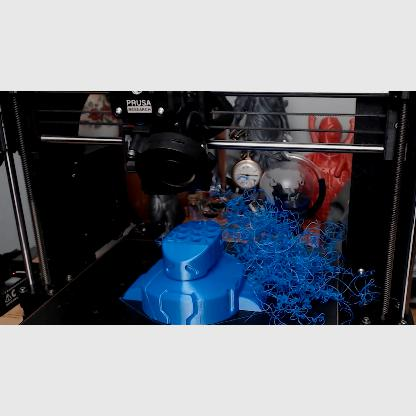fail: (224, 188, 380, 324)
